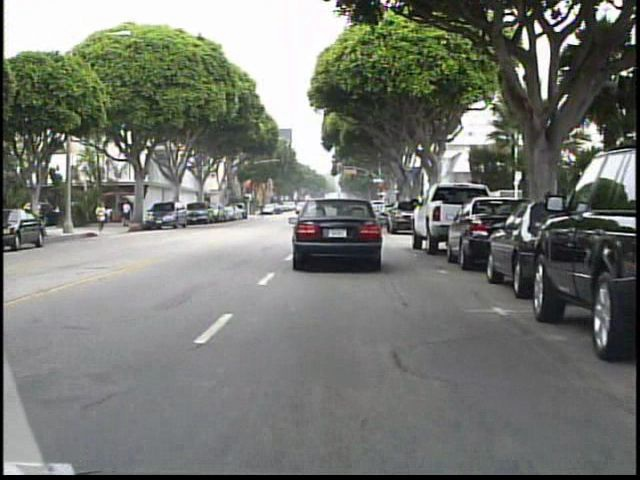person: (95, 198, 113, 238), (121, 198, 136, 232), (255, 200, 271, 224)
